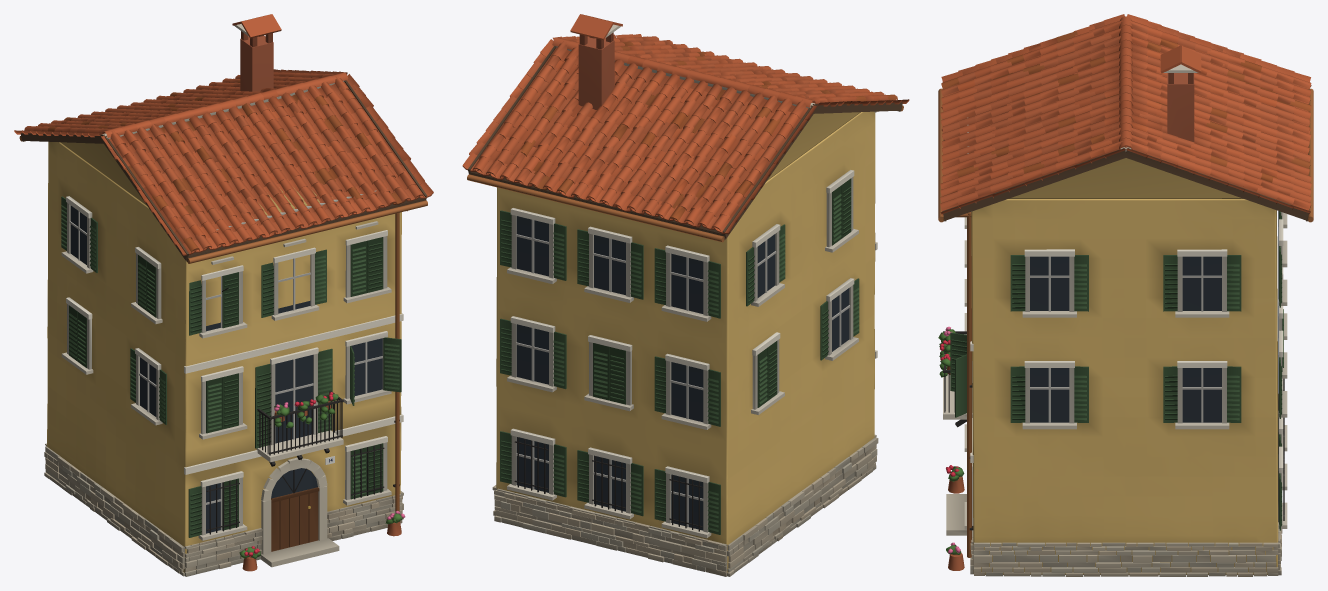
The model's file is casa_gialla.glb.
3 renders of one model, left to right at view 1: azimuth 30°, elevation 25°; view 2: azimuth 150°, elevation 25°; view 3: azimuth 270°, elevation 25°, orthographic. The views are drawn at different scales.
Parts seen in each view (by area): view 1: casa_gialla; view 2: casa_gialla; view 3: casa_gialla.
Part boxes in pixels (<box>): casa_gialla: <box>14,14,433,576</box>; casa_gialla: <box>462,14,909,576</box>; casa_gialla: <box>938,14,1313,576</box>.
Size of the model in its own units: 6.55 by 11.1 by 7.63.
